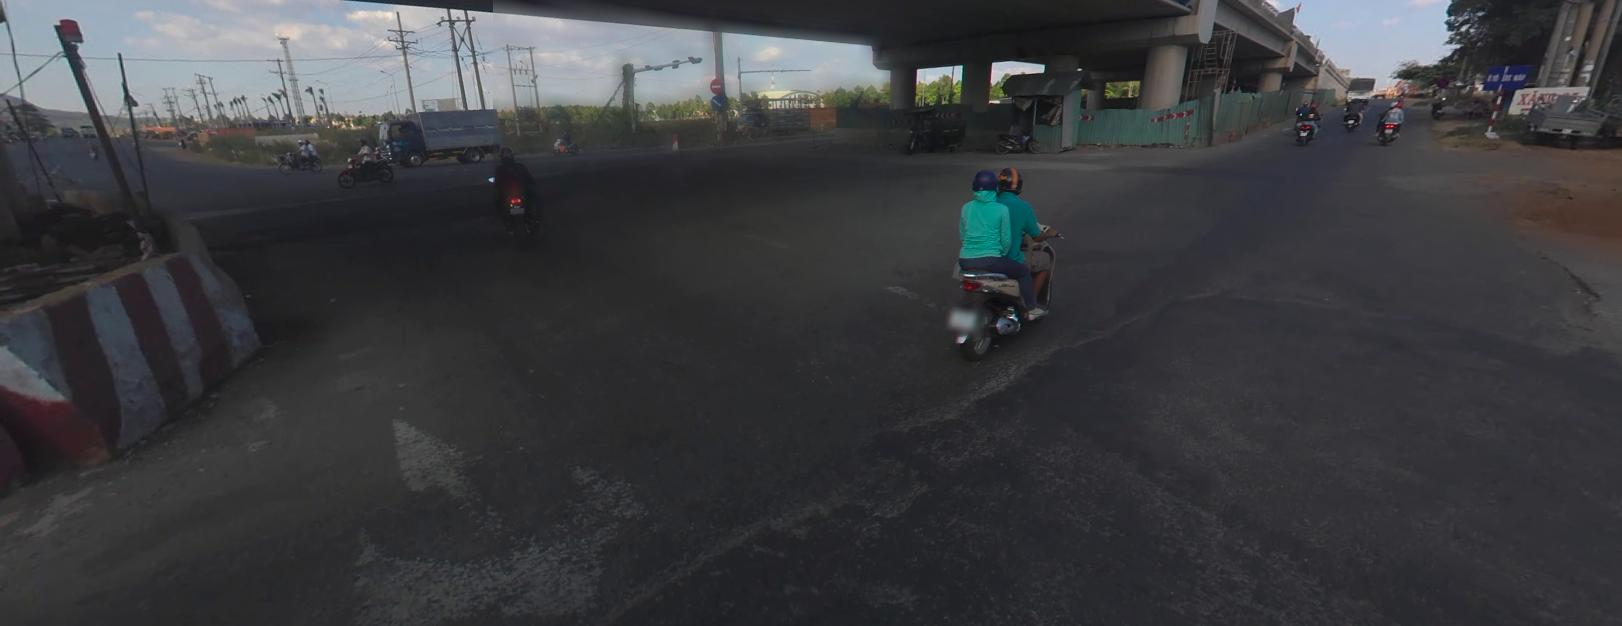Cam dung va do: (1437, 76, 1448, 86)
Cam nguoc chieu: (709, 77, 724, 92)
Hieu lenh: (709, 94, 723, 110)
